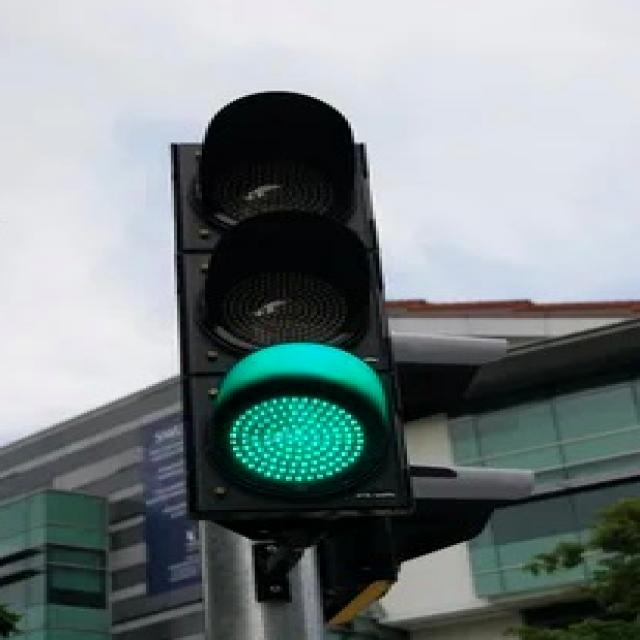yesil: (171, 93, 411, 517)
